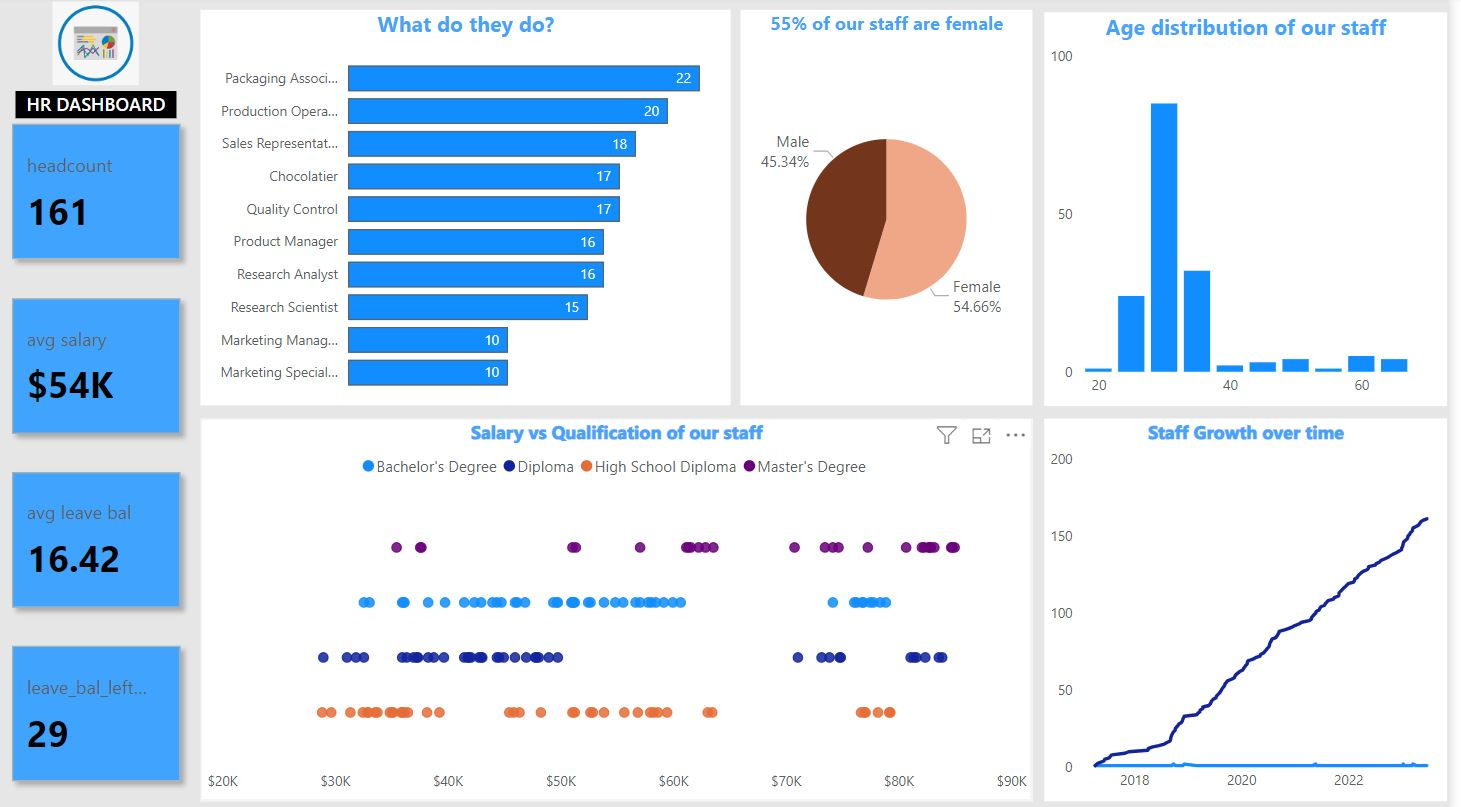

The page's visual inventory and layout, read from the dashboard file:
{"tool":"powerbi","page":{"name":"HR DASHBOARD","canvas":[1280,720],"ordinal":6},"visuals":[{"type":"cardVisual","fields":{"Data":["data.headcount","data.avg salary","data.avg leave bal","data.leaves left"]},"box":[0,95.2,182.1,613.1],"z":0},{"type":"clusteredBarChart","title":"What do they do?","fields":{"Y":["data.headcount"],"Category":["data.Job Title"]},"box":[182.1,11.9,466.7,347.6],"z":1000},{"type":"pieChart","title":"55% of our staff are female","fields":{"Category":["data.Gender"],"Y":["data.headcount"]},"box":[657.1,11.9,257.1,347.6],"z":2000},{"type":"columnChart","title":"Age distribution of our staff","fields":{"Category":["data.Age (bins)"],"Y":["data.headcount"]},"box":[925,14.3,354.8,346.4],"z":3000},{"type":"scatterChart","title":"Salary vs Qualification of our staff","fields":{"X":["data.Salary"],"Y":["Qualification.Qualification ID"],"Series":["Qualification.Qualification"]},"box":[182.1,371.4,732.1,336.9],"z":4000},{"type":"lineChart","title":" Staff Growth over time","fields":{"Y":["data.headcount","data.cumlative headcount"],"Category":["data.Date of Join"]},"box":[925,371.4,354.8,336.9],"z":5000},{"type":"shape","title":"HR DASHBOARD","box":[20.2,83.3,141.7,23.8],"z":5002},{"type":"image","box":[9.5,0,160.7,83.3],"z":5003}]}

Visuals, with their boxes in screenshot pixels (x1, y1, x2, y2), scaled from the page's 1280x720 canvas onto the 1461x807 screenshot:
cardVisual - data.headcount x data.avg salary: BBox(0, 107, 208, 794)
"What do they do?" clusteredBarChart: BBox(208, 13, 741, 403)
"55% of our staff are female" pieChart: BBox(750, 13, 1043, 403)
"Age distribution of our staff" columnChart: BBox(1056, 16, 1460, 404)
"Salary vs Qualification of our staff" scatterChart: BBox(208, 416, 1043, 794)
" Staff Growth over time" lineChart: BBox(1056, 416, 1460, 794)
"HR DASHBOARD" shape: BBox(23, 93, 185, 120)
image: BBox(11, 0, 194, 93)
